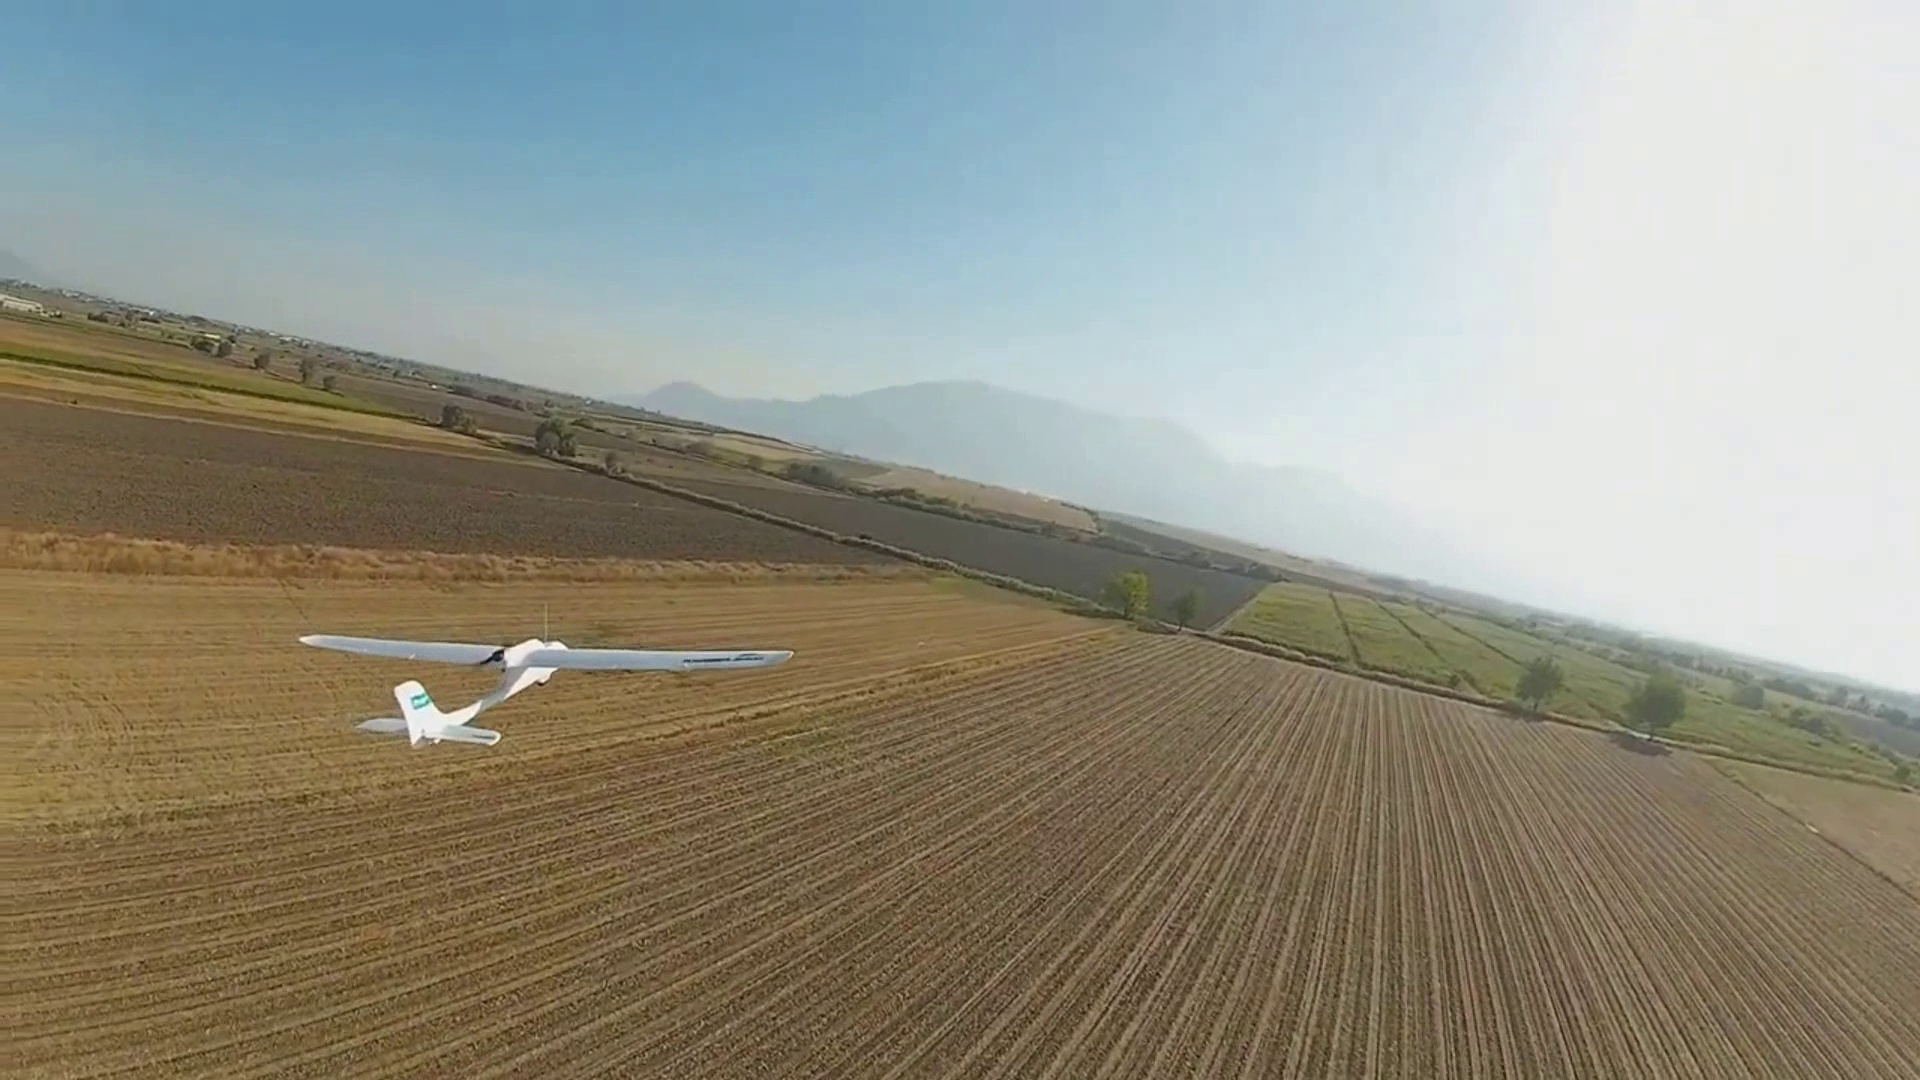airplane: (297, 626, 794, 750), (375, 678, 502, 749)
